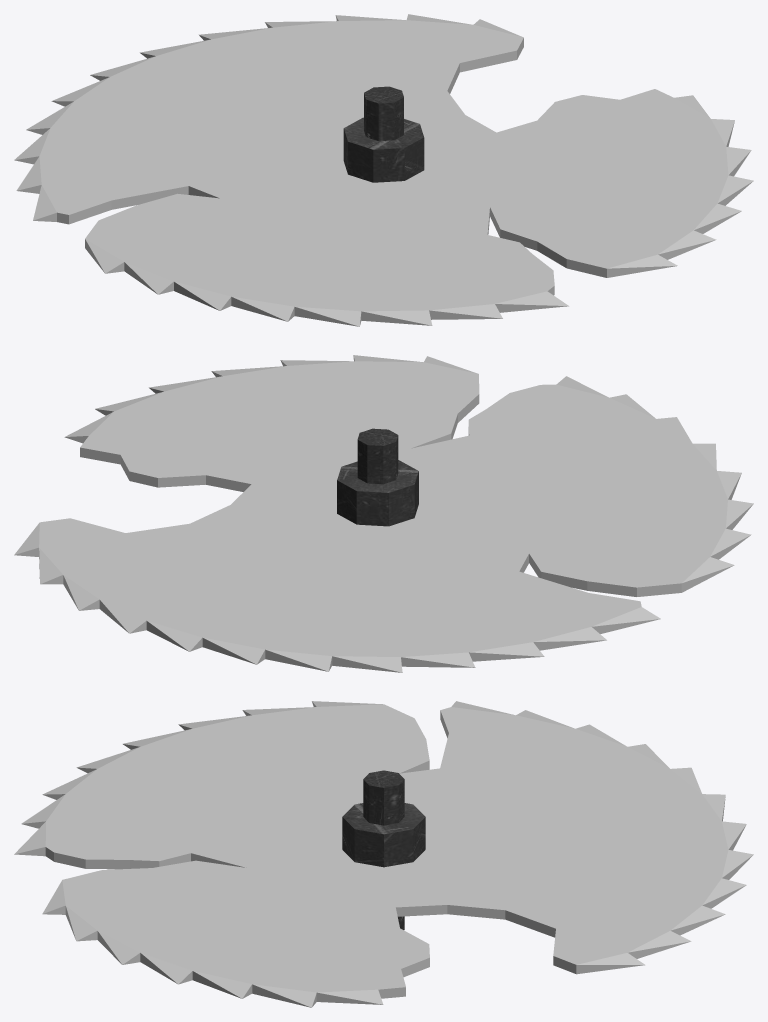
The model's file is brokensaw_v2_1.fbx.
The picture shows the model from 3 angles, top to bottom: view 1: azimuth 30°, elevation 25°; view 2: azimuth 150°, elevation 25°; view 3: azimuth 270°, elevation 25°; orthographic projection.
Visible parts, largest first — view 1: brokensaw; view 2: brokensaw; view 3: brokensaw.
Boxes of the visible parts, left/top/right/bottom form: brokensaw: left=14, top=14, right=753, bottom=326; brokensaw: left=14, top=355, right=753, bottom=672; brokensaw: left=14, top=701, right=753, bottom=1007.
Bounding box in the file's own units: 140 × 32 × 143.
